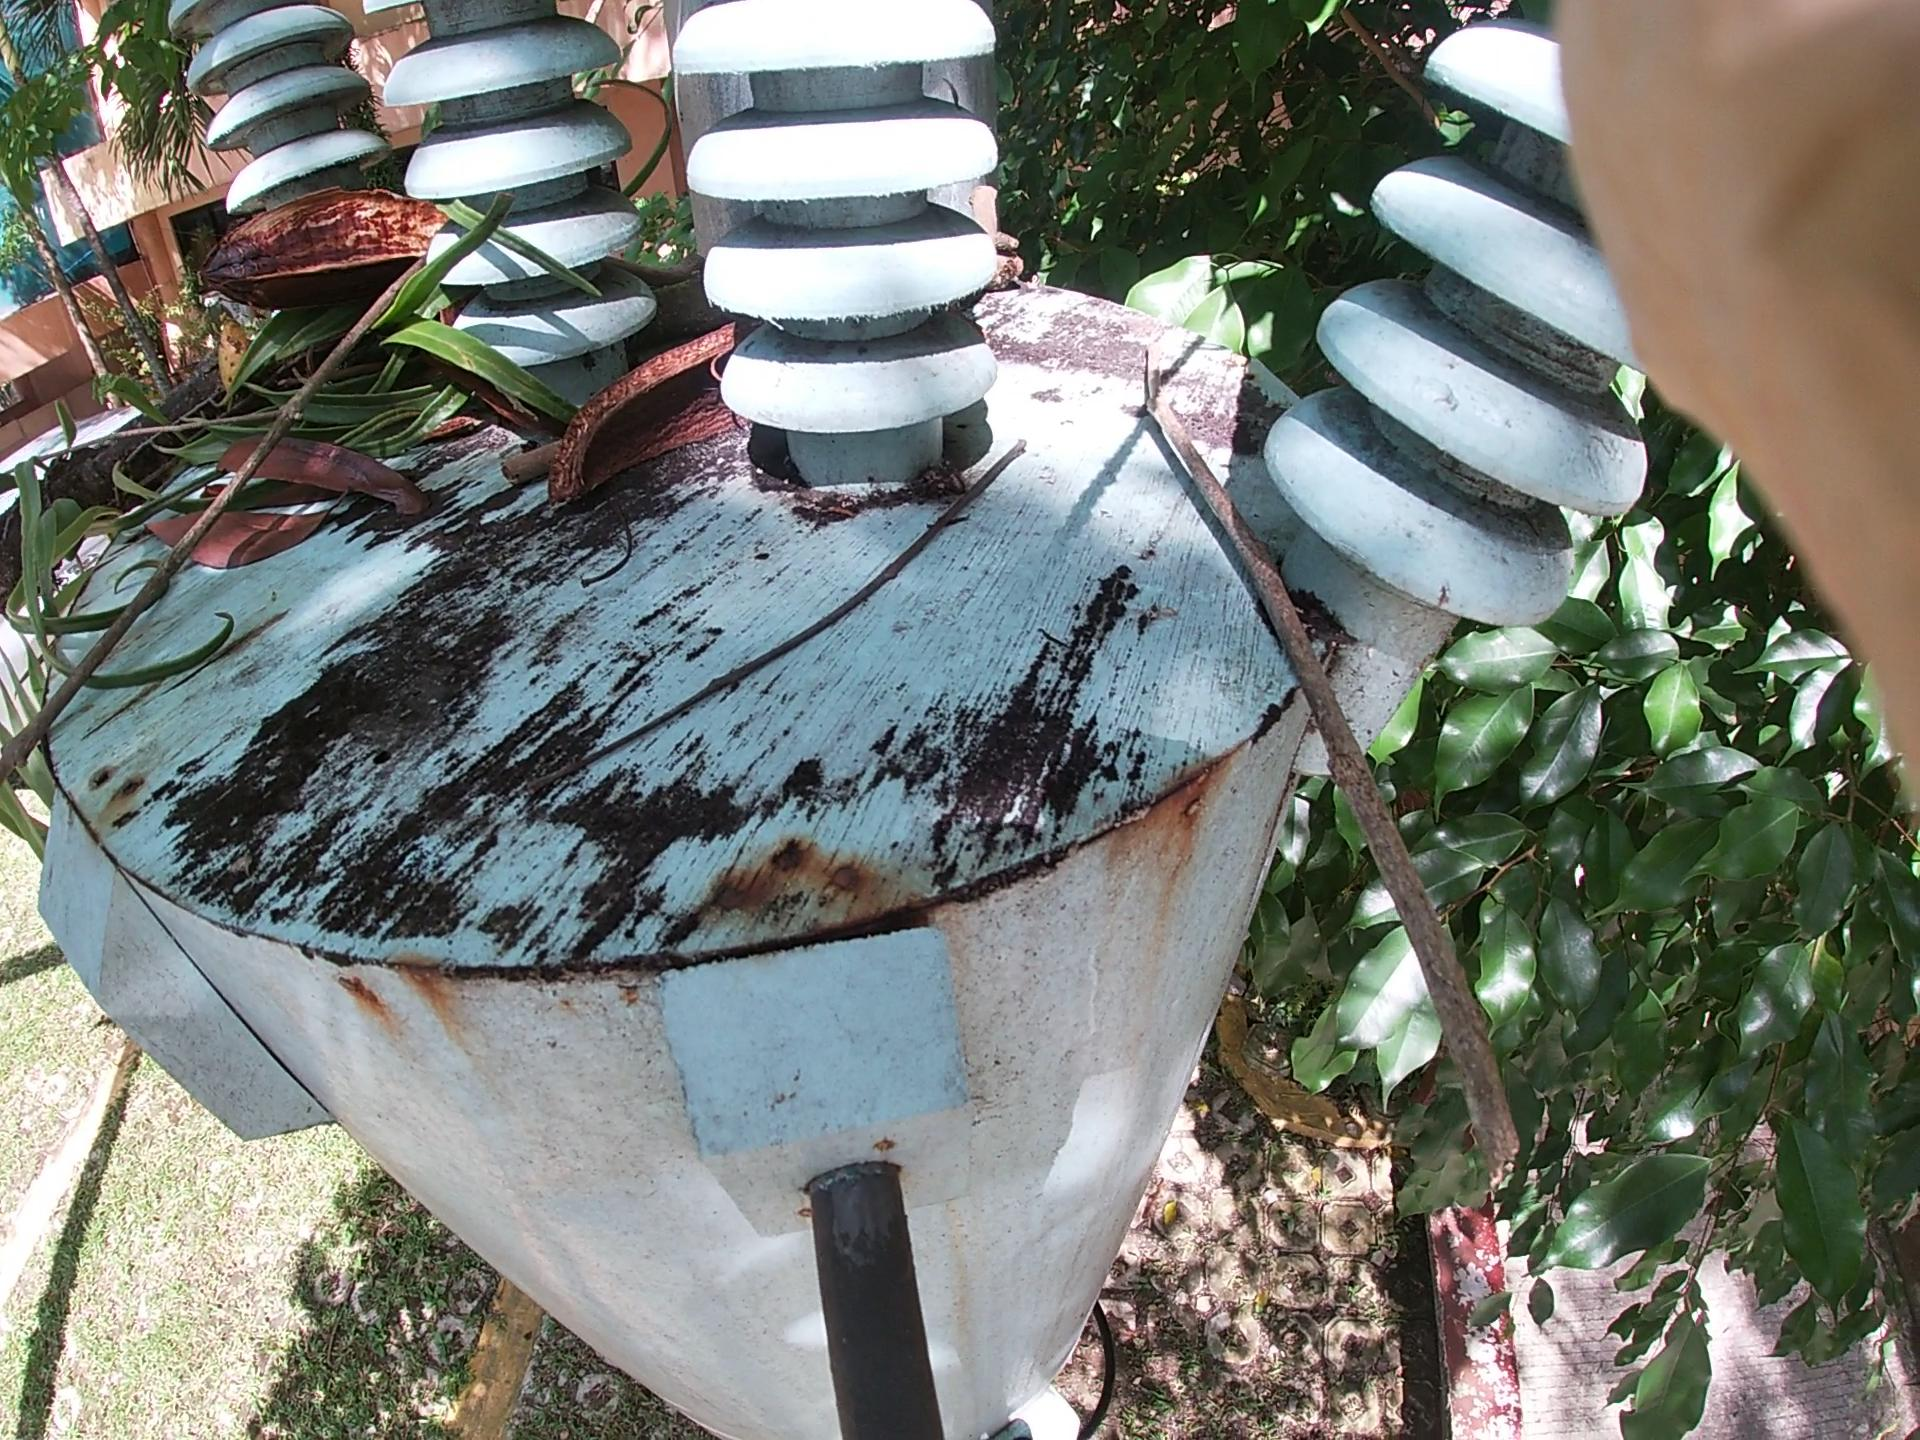branch with leaves: (48, 204, 485, 663)
leaf: (135, 216, 454, 650)
mahogany fruit: (172, 101, 491, 390), (475, 280, 763, 557)
tree branch: (1147, 377, 1601, 1190), (98, 172, 547, 765), (556, 421, 989, 777), (470, 177, 1008, 461)
